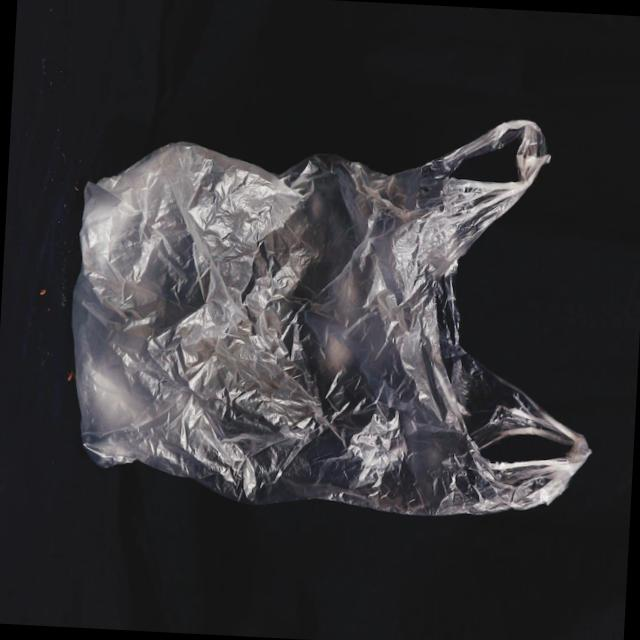plastic_bag: (69, 79, 599, 538)
